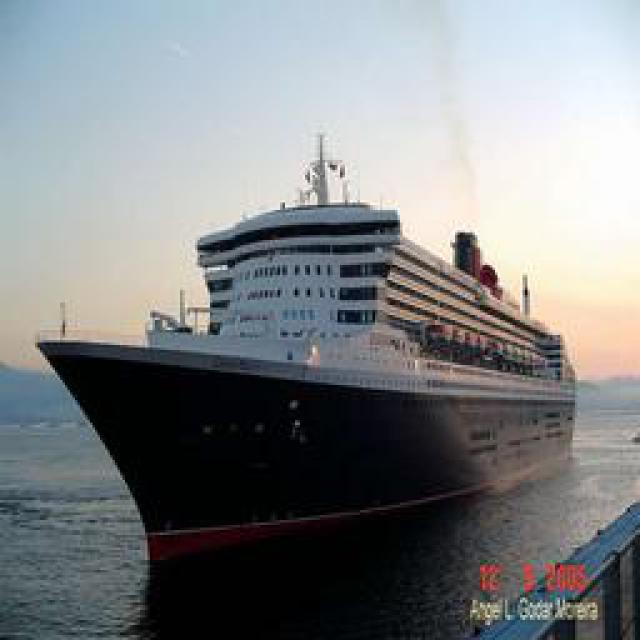Ship: (34, 175, 574, 578)
